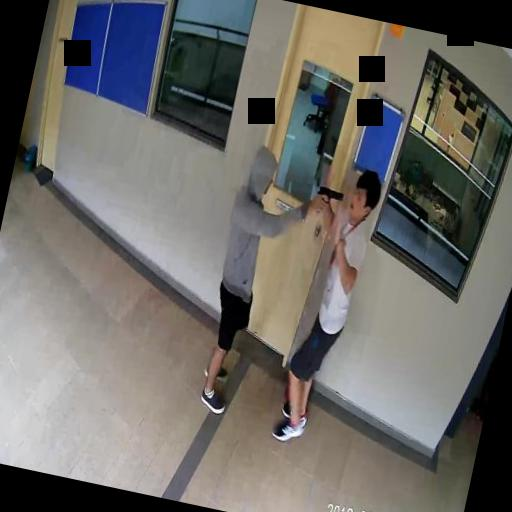Handgun: (312, 183, 343, 214)
